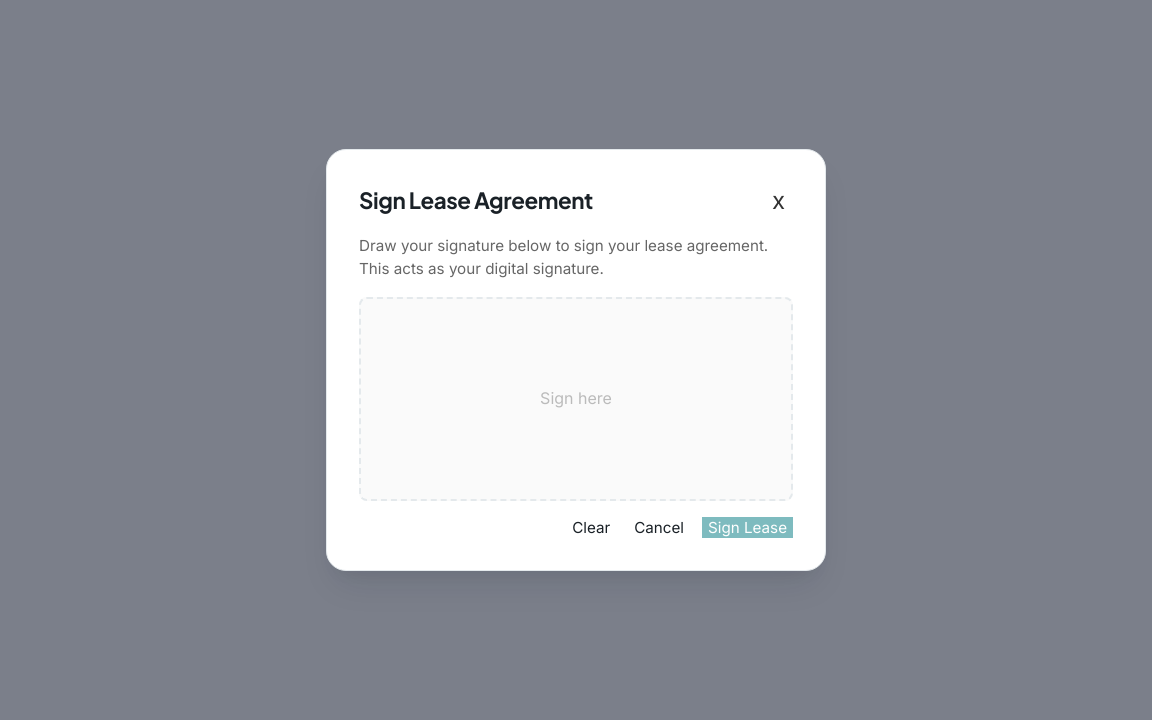
Test case: SignaturePad › clears canvas when clear button clicked
Press the mouse on the drawing at (576, 399), box [361, 299, 791, 499]
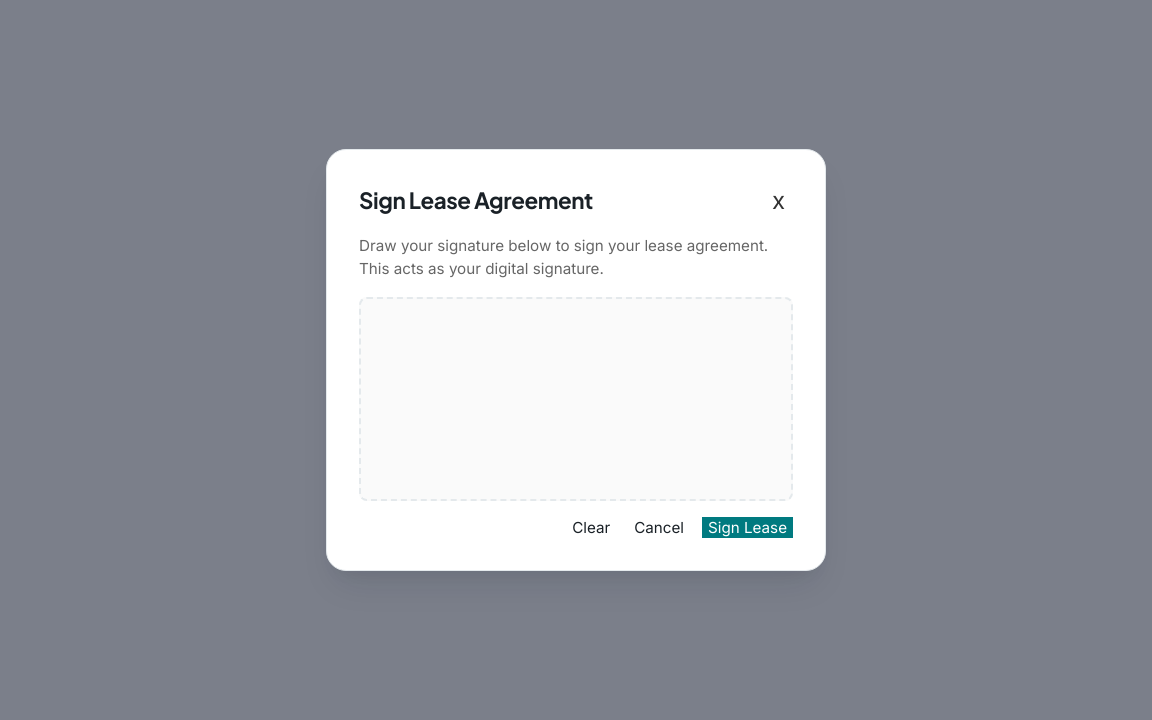
expect the button "Sign Lease" is enabled: met, box [702, 517, 793, 538]
Click the button "Clear" at (591, 527), box [566, 517, 616, 538]
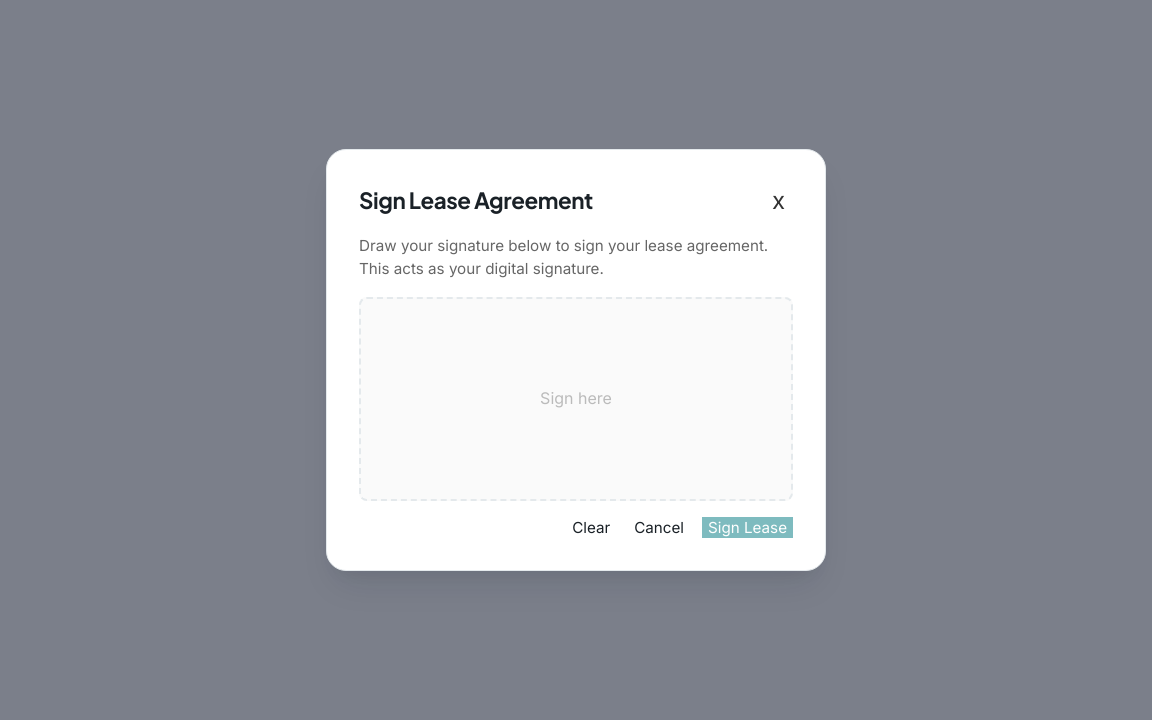
expect the button "Sign Lease" is disabled: met, box [702, 517, 793, 538]
expect the text "Sign here" is shown: met, box [540, 386, 612, 412]
